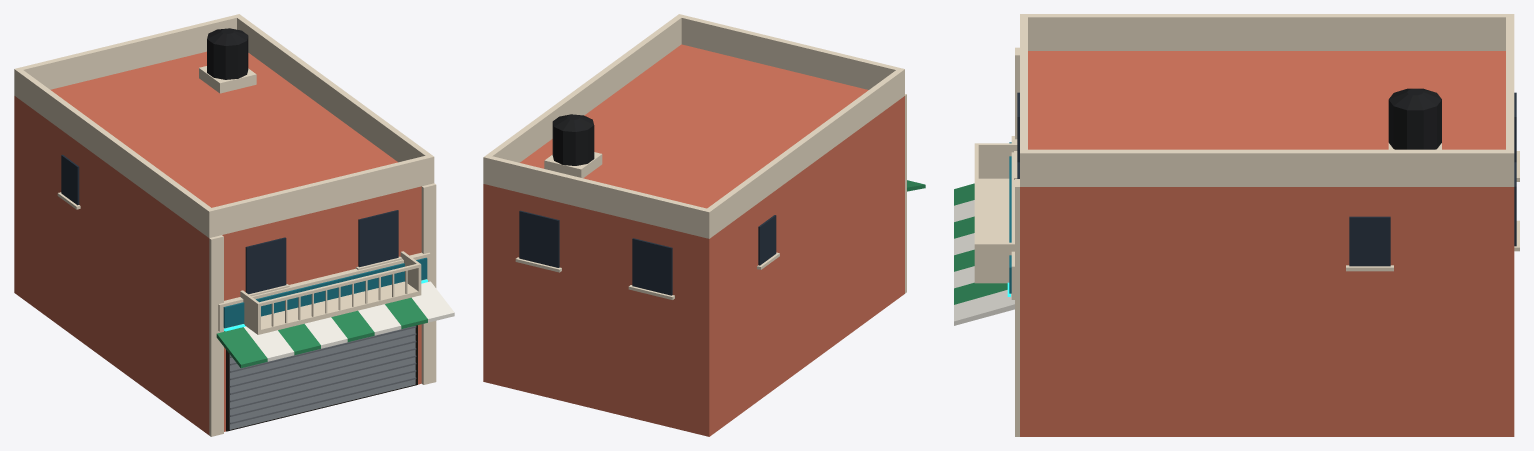
The model's file is bld_shophouse_01.glb.
3 views of the same model, side by side, from view 1: azimuth 30°, elevation 25°; view 2: azimuth 150°, elevation 25°; view 3: azimuth 270°, elevation 25° (orthographic). The views are drawn at different scales.
Parts seen in each view (by area): view 1: bld_shophouse_01; view 2: bld_shophouse_01; view 3: bld_shophouse_01.
Boxes of the visible parts, <box> form: bld_shophouse_01: <box>14,14,454,436</box>; bld_shophouse_01: <box>483,14,925,436</box>; bld_shophouse_01: <box>954,14,1519,436</box>.
Size of what is drawn, in the model's own units: 8.28 by 8.4 by 13.74.
